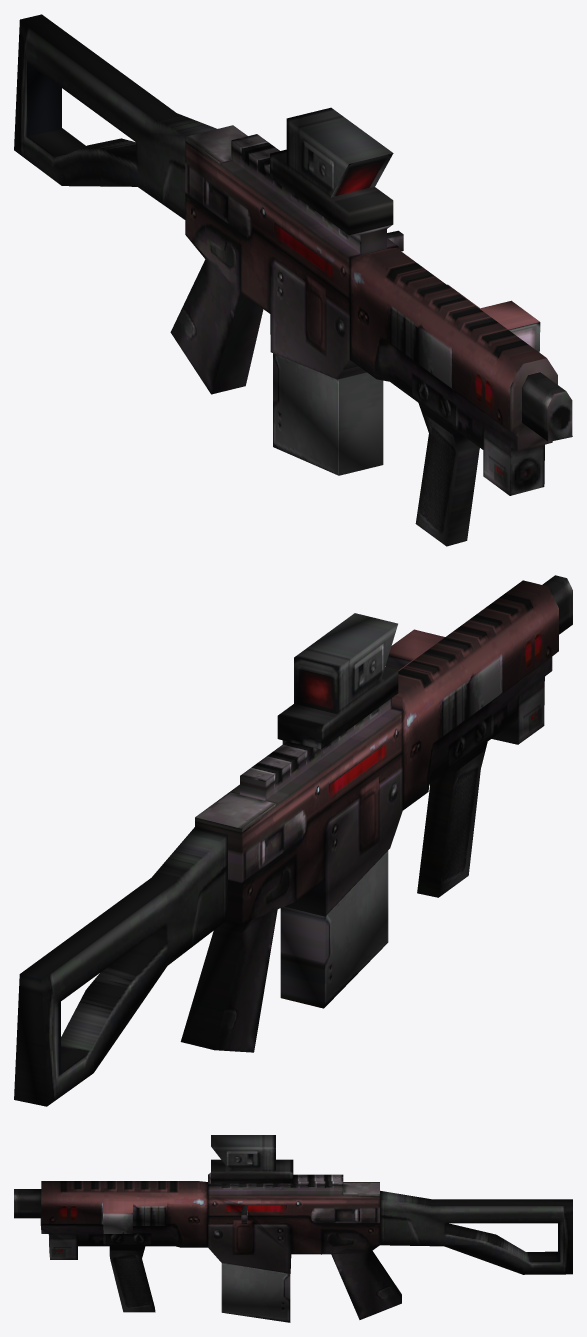
3 renders of one model, top to bottom at view 1: azimuth 30°, elevation 25°; view 2: azimuth 150°, elevation 25°; view 3: azimuth 270°, elevation 25°, orthographic. The views are drawn at different scales.
Parts seen in each view (by area): view 1: Trispread, Trispread01; view 2: Trispread, Trispread01; view 3: Trispread, Trispread01.
Part boxes in pixels (box(x1,y1,x2,y2)): Trispread: box(14, 14, 572, 546); Trispread01: box(273, 353, 383, 475); Trispread: box(14, 575, 572, 1106); Trispread01: box(280, 850, 388, 1008); Trispread: box(14, 1135, 572, 1319); Trispread01: box(221, 1263, 290, 1322).
Bounding box in the file's own units: 3.5 × 12.67 × 36.39.
1 material, 1 textured.
